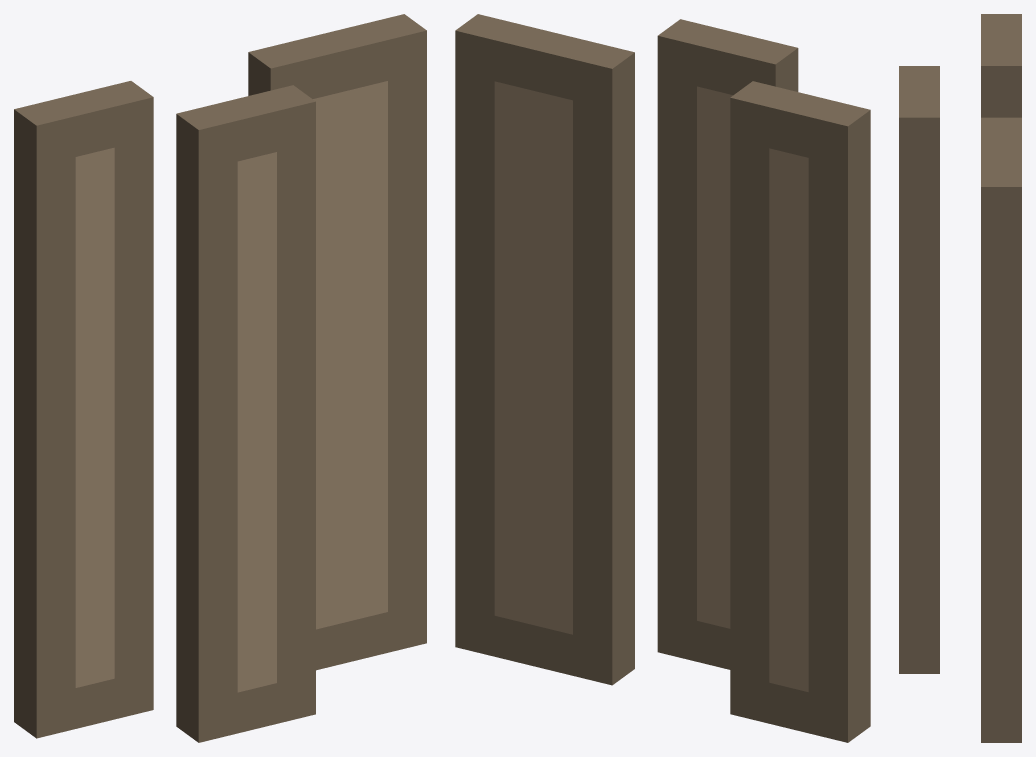
File: biombo_madera_calada_01.glb
The picture shows the model from 3 angles, left to right: view 1: azimuth 30°, elevation 25°; view 2: azimuth 150°, elevation 25°; view 3: azimuth 270°, elevation 25°; orthographic projection. The views are drawn at different scales.
Parts seen in each view (by area): view 1: biombo_madera_calada; view 2: biombo_madera_calada; view 3: biombo_madera_calada.
Boxes of the visible parts, left/top/right/bottom form: biombo_madera_calada: left=14, top=14, right=426, bottom=742; biombo_madera_calada: left=455, top=14, right=870, bottom=742; biombo_madera_calada: left=899, top=14, right=1021, bottom=742.
Bounding box in the file's own units: 1 × 1.5 × 0.3.
